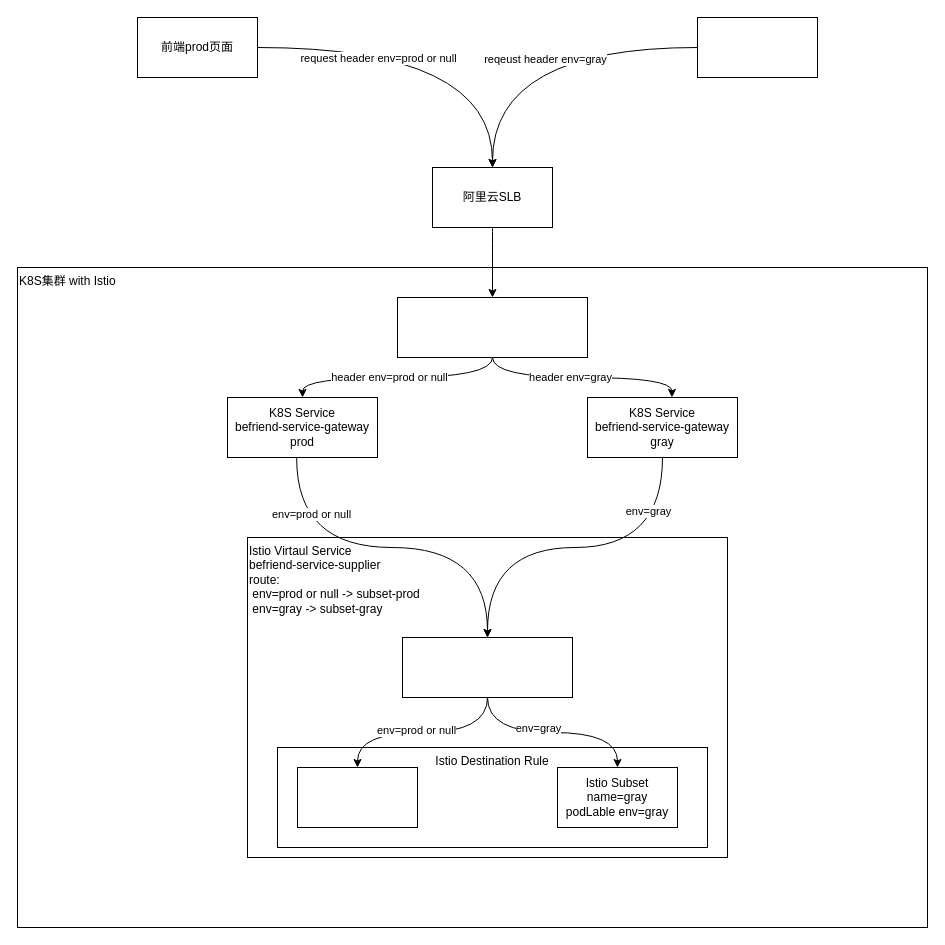
Image size: 945x945. Some labels were removed from this diagram. The shapes that lost their labels are listed below. From the top down, each one's centre as x and y in pixels, then its label:
At [757,47]: "前端gray页面".
At [492,327]: "istio-gateway host:api-prod.jinweihaowu.com".
At [487,667]: "K8S Service befriend-service-supplier podLabel app=supplier".
At [357,797]: "Istio Subset name=prod podLabel env=prod".
